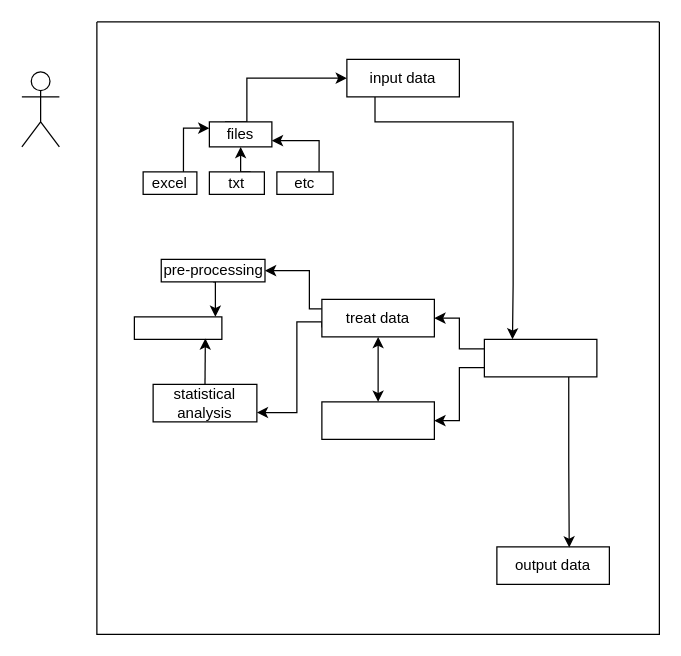
Some shapes in this 681 by 656 pixel diagram are drawn without their labels. The shapes that lost their labels are listed below. From the top down, each one's centre as x and y in pixels, then its label:
(40,109): Actor
(177,327): graphics
(540,357): manipulate data
(377,420): visualize
